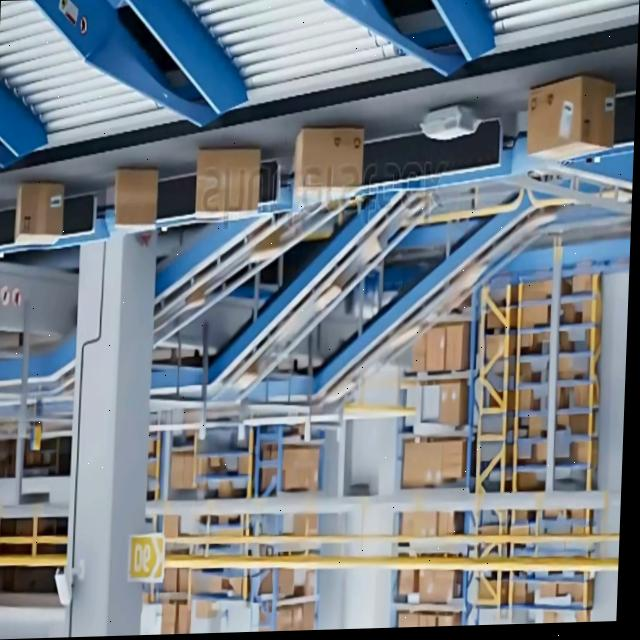product 1: (290, 125, 364, 207), (193, 146, 260, 218), (111, 167, 159, 229)
product 2: (418, 102, 481, 142)
